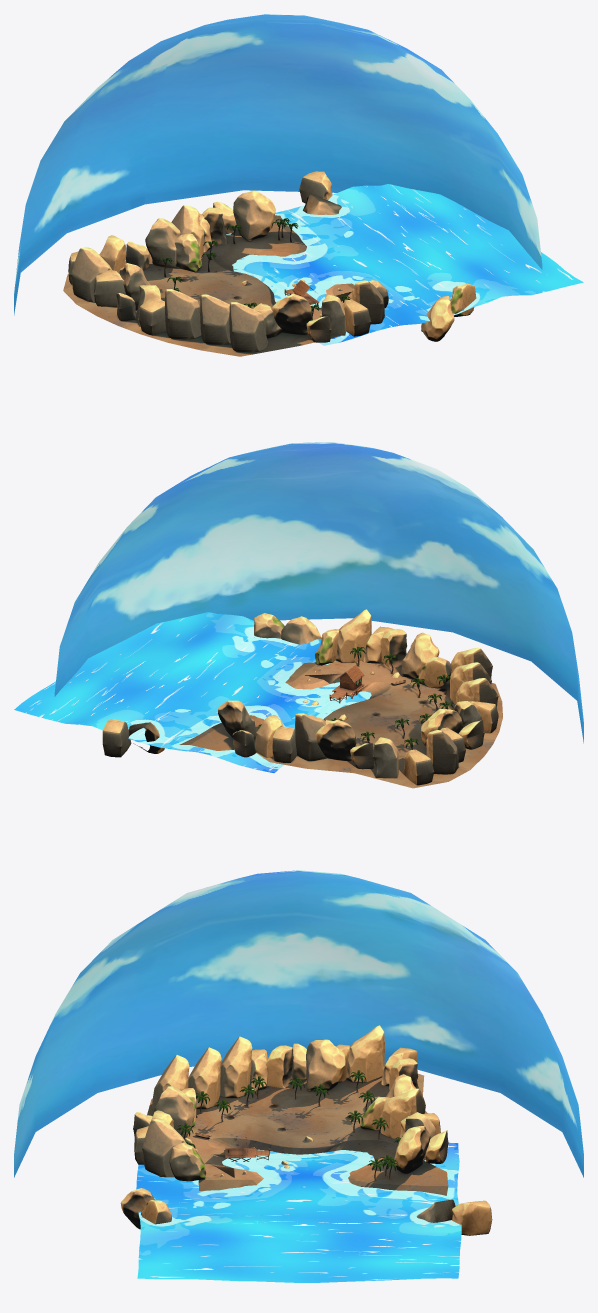
Rendered from Beach_Environment_v1.02.glb.
3 views of the same model, one above another, from view 1: azimuth 30°, elevation 25°; view 2: azimuth 150°, elevation 25°; view 3: azimuth 270°, elevation 25° (orthographic). The views are drawn at different scales.
Visible parts, largest first — view 1: Skydome.001, SeaPlane_animated02, Ground, Rock01.006, rock05.004, rock05.006, rock05.005, rock05.007, Rock01.004, Rock01.005, Rock01.003, rock03.006 (+14 smaller); view 2: Skydome.001, SeaPlane_animated02, Ground, rock05.009, Rock01.005, rock05.007, rock05.008, Rock01.004, Rock01.006, rock03.002, rock04.003, rock03.004 (+17 smaller); view 3: Skydome.001, SeaPlane_animated02, Ground, Rock01_003, rock05.007, rock05.009, rock05.006, rock05.005, rock05.008, Rock01.006, rock03.002, Rock01.004 (+9 smaller).
Part boxes in pixels (x1,y1,x2,y2): Skydome.001: (14,14,542,315); SeaPlane_animated02: (226,184,583,345); Ground: (63,215,353,356); Rock01.006: (233,190,275,240); rock05.004: (229,302,268,352); rock05.006: (165,289,201,339); rock05.005: (200,294,230,344); rock05.007: (71,247,111,302); Rock01.004: (271,293,312,334); Rock01.005: (145,218,180,267); Rock01.003: (421,295,454,341); rock03.006: (94,270,126,306); Skydome.001: (54,442,583,743); SeaPlane_animated02: (14,612,371,773); Ground: (179,660,502,788); rock05.009: (336,609,371,662); Rock01.005: (315,719,356,760); rock05.007: (426,730,458,774); rock05.008: (295,713,327,760); Rock01.004: (401,632,439,680); Rock01.006: (218,700,256,739); rock03.002: (102,719,131,757); rock04.003: (374,737,398,778); rock03.004: (403,749,434,785); Skydome.001: (14,870,583,1177); SeaPlane_animated02: (136,1142,461,1282); Ground: (147,1065,448,1195); Rock01_003: (306,1039,345,1090); rock05.007: (346,1025,384,1082); rock05.009: (142,1118,185,1177); rock05.006: (220,1036,252,1097); rock05.005: (188,1047,221,1108); rock05.008: (380,1088,425,1138); Rock01.006: (394,1126,430,1173); rock03.002: (452,1200,492,1235); Rock01.004: (154,1086,194,1137).
Size of the model in its own units: 88.98 by 49.54 by 88.79.
Materials: 1 (1 with a texture image).
